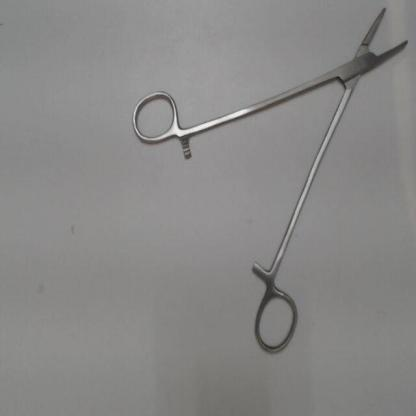8 Mayo Needle Holder: (126, 2, 415, 362)
